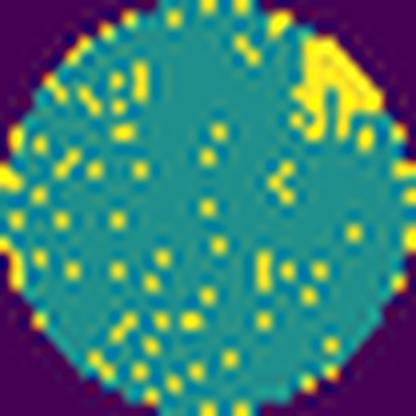Edge-Loc: (287, 33, 387, 143)
